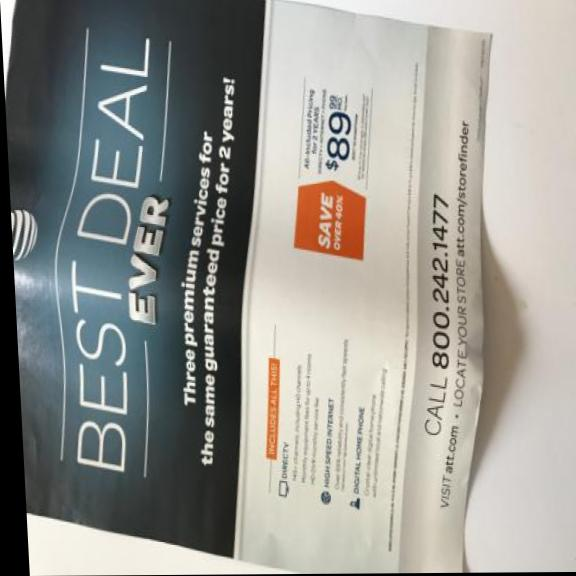Kertas: (0, 0, 525, 576)
